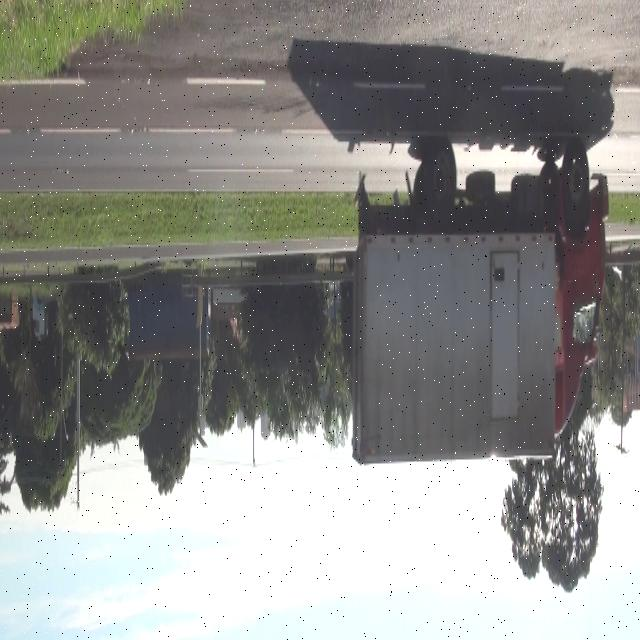-axle: (427, 132, 458, 224), (563, 137, 591, 230)
